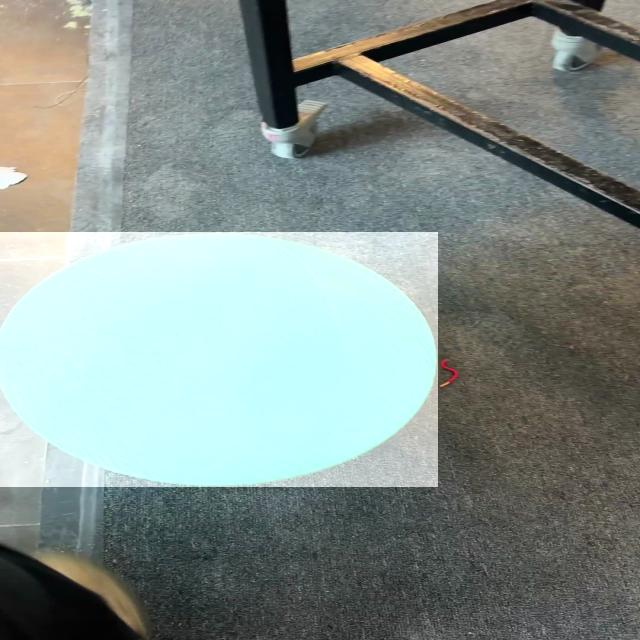Algae: (1, 232, 438, 487)
